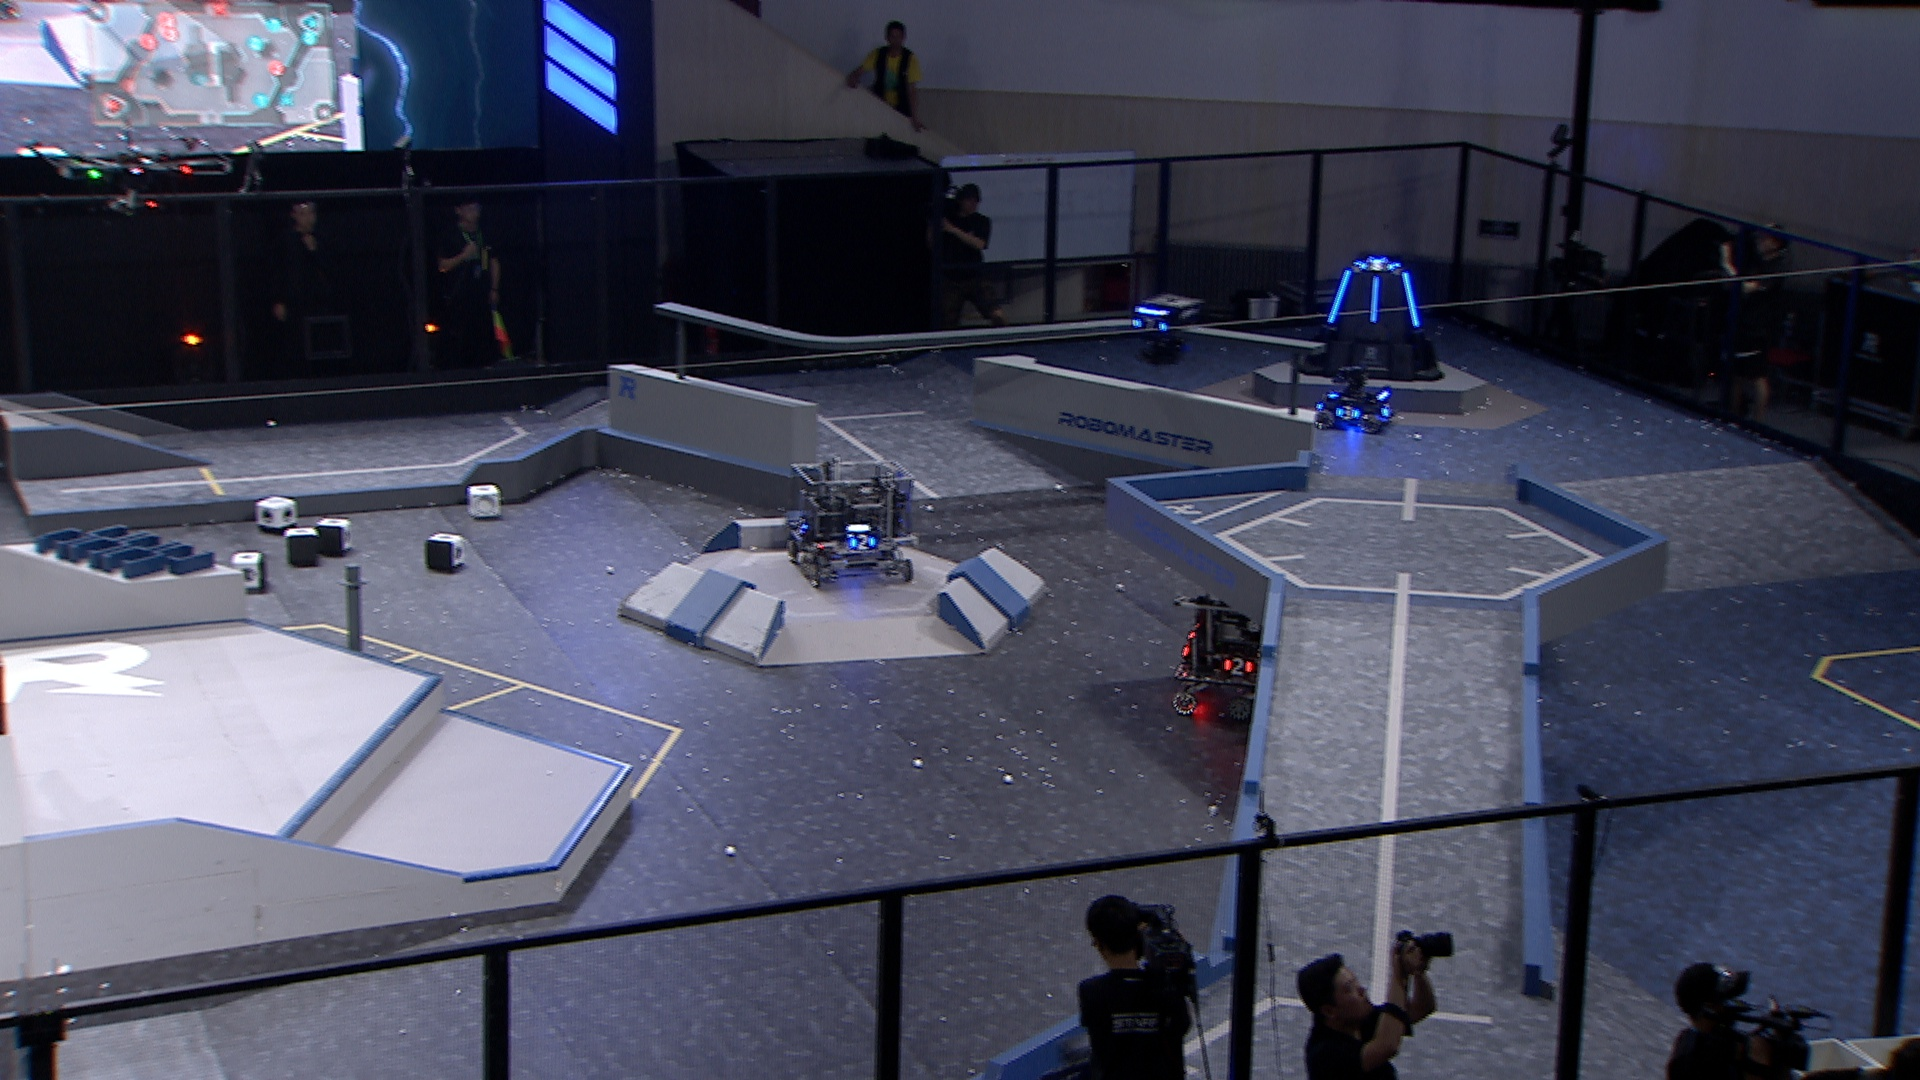armor: (1323, 270, 1353, 324), (1403, 272, 1423, 328), (1222, 655, 1254, 678), (1127, 316, 1168, 334), (849, 534, 880, 553), (1358, 258, 1396, 273), (1370, 276, 1381, 323), (1333, 405, 1361, 419), (794, 517, 812, 538), (1382, 401, 1395, 419)
base: (1287, 251, 1444, 384)
car: (1168, 579, 1325, 728), (779, 456, 920, 589), (1309, 363, 1404, 433)
watcher: (1122, 291, 1193, 367)
